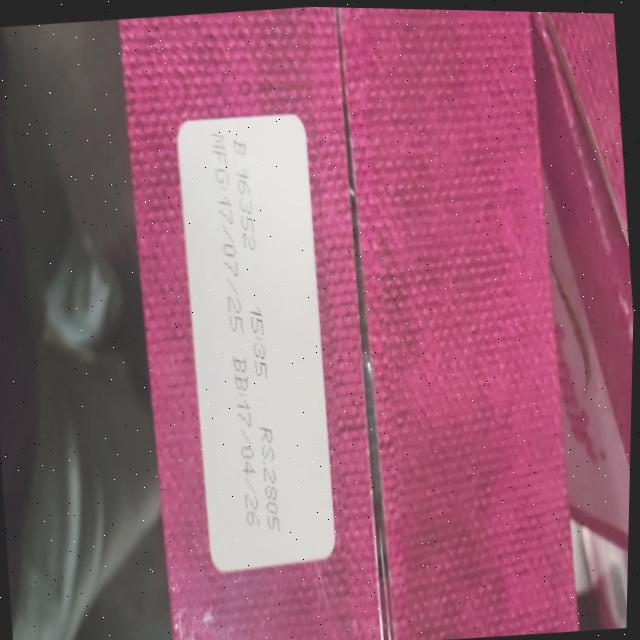BB: (226, 351, 267, 548)
Batch: (228, 136, 263, 256)
MFG: (203, 127, 250, 336)
RS: (256, 417, 285, 532)
TimeStamp: (246, 303, 273, 379)
